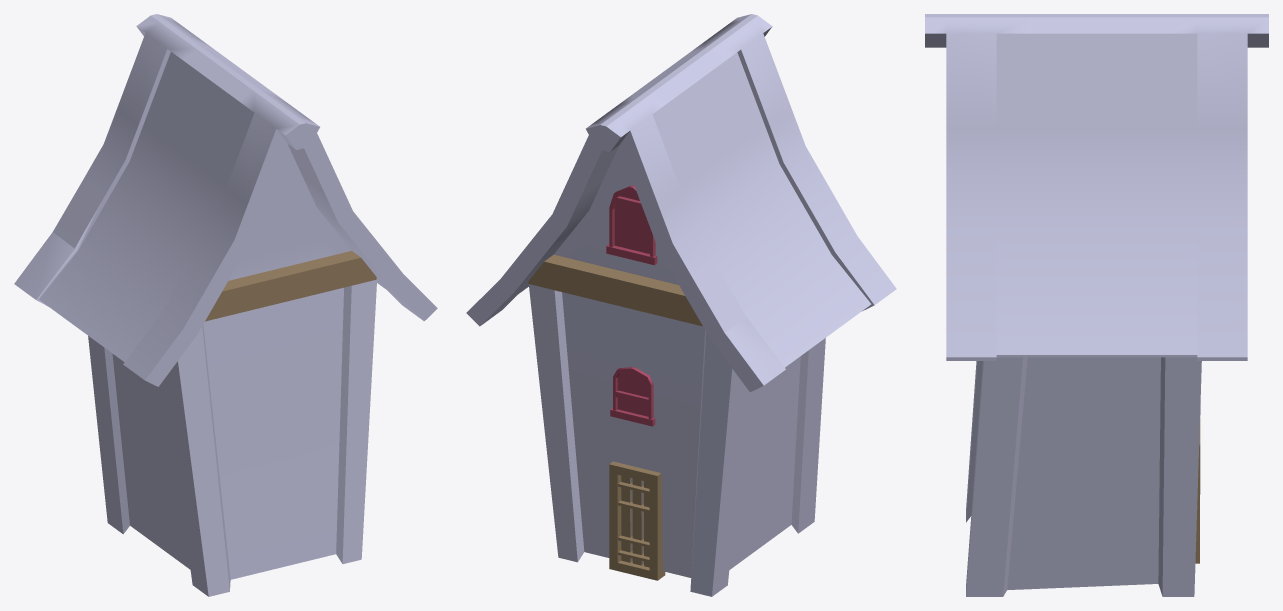
Rendered from 1st_home.fbx.
The picture shows the model from 3 angles, left to right: view 1: azimuth 30°, elevation 25°; view 2: azimuth 150°, elevation 25°; view 3: azimuth 270°, elevation 25°; orthographic projection. The views are drawn at different scales.
Parts seen in each view (by area): view 1: pCube194; view 2: pCube194; view 3: pCube194.
Boxes of the visible parts, bbox=[...] form: pCube194: bbox=[14, 14, 437, 596]; pCube194: bbox=[466, 14, 896, 596]; pCube194: bbox=[925, 14, 1268, 596].
Bounding box in the file's own units: 1.77 × 2.7 × 1.56.
